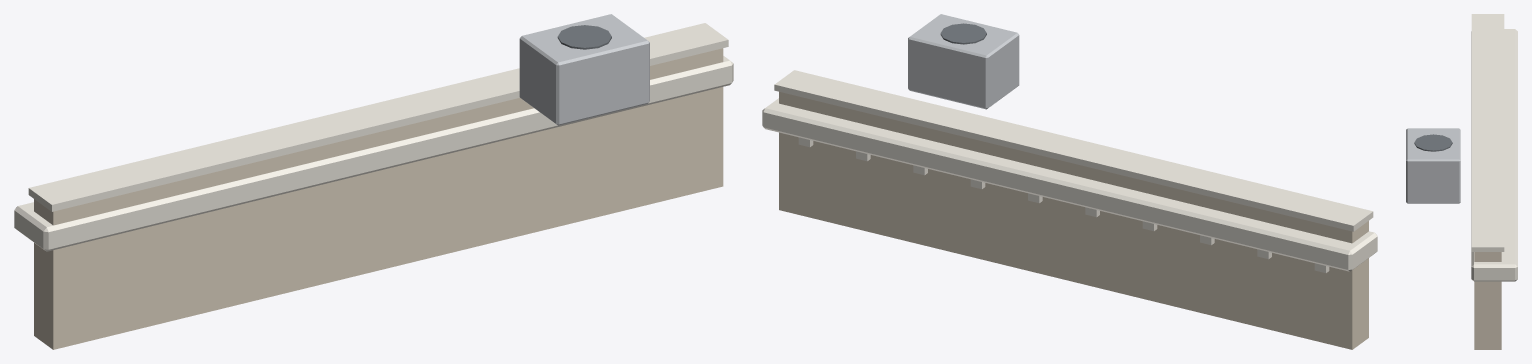
Rendered from facade_top.glb.
The picture shows the model from 3 angles, left to right: view 1: azimuth 30°, elevation 25°; view 2: azimuth 150°, elevation 25°; view 3: azimuth 270°, elevation 25°; orthographic projection. The views are drawn at different scales.
Parts seen in each view (by area): view 1: body; view 2: body; view 3: body.
Boxes of the visible parts, x1,y1,x2,y2 form: body: (14,14,733,349); body: (762,14,1377,349); body: (1406,14,1517,349).
Bounding box in the file's own units: 10.3 × 3.03 × 2.05.
